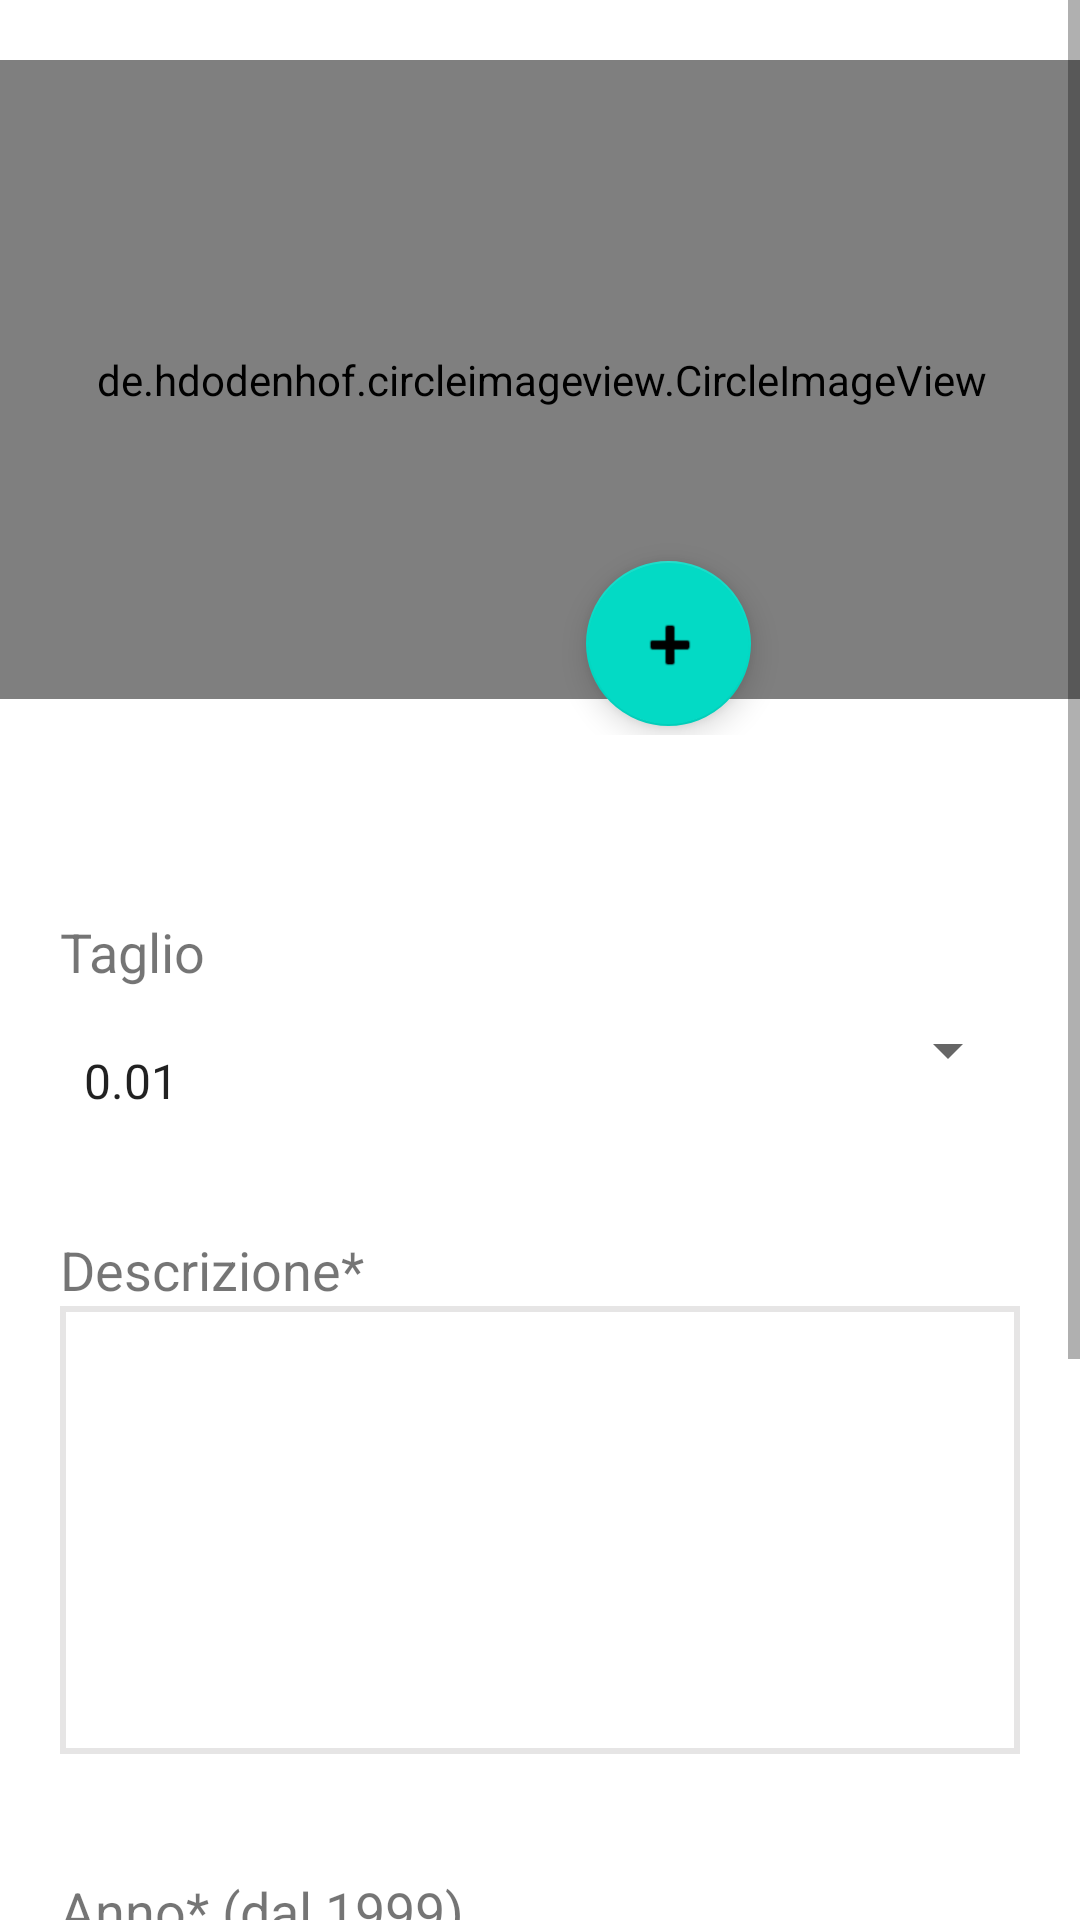

Where icons sit on this 1080 x 1920 app screen, as (x1, y1, x2, y2):
add: (586, 561, 751, 726)
